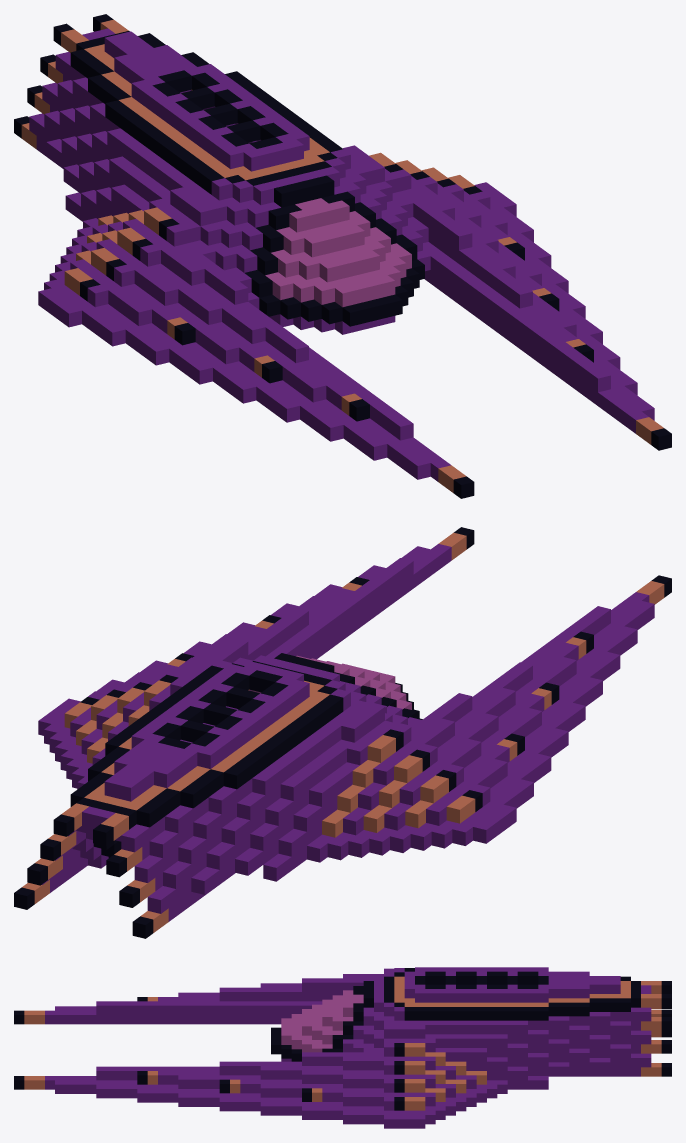
Rendered from Ship_3-0.obj.
3 views of the same model, one above another, from view 1: azimuth 30°, elevation 25°; view 2: azimuth 150°, elevation 25°; view 3: azimuth 270°, elevation 25° (orthographic). The views are drawn at different scales.
Parts seen in each view (by area): view 1: Ship_3-0; view 2: Ship_3-0; view 3: Ship_3-0.
Boxes of the visible parts, x1,y1,x2,y2 form: Ship_3-0: (14,14,671,498); Ship_3-0: (14,527,671,938); Ship_3-0: (14,967,671,1128).
Size of the model in its own units: 34 by 8 by 64.
Materials: 1 (1 with a texture image).
